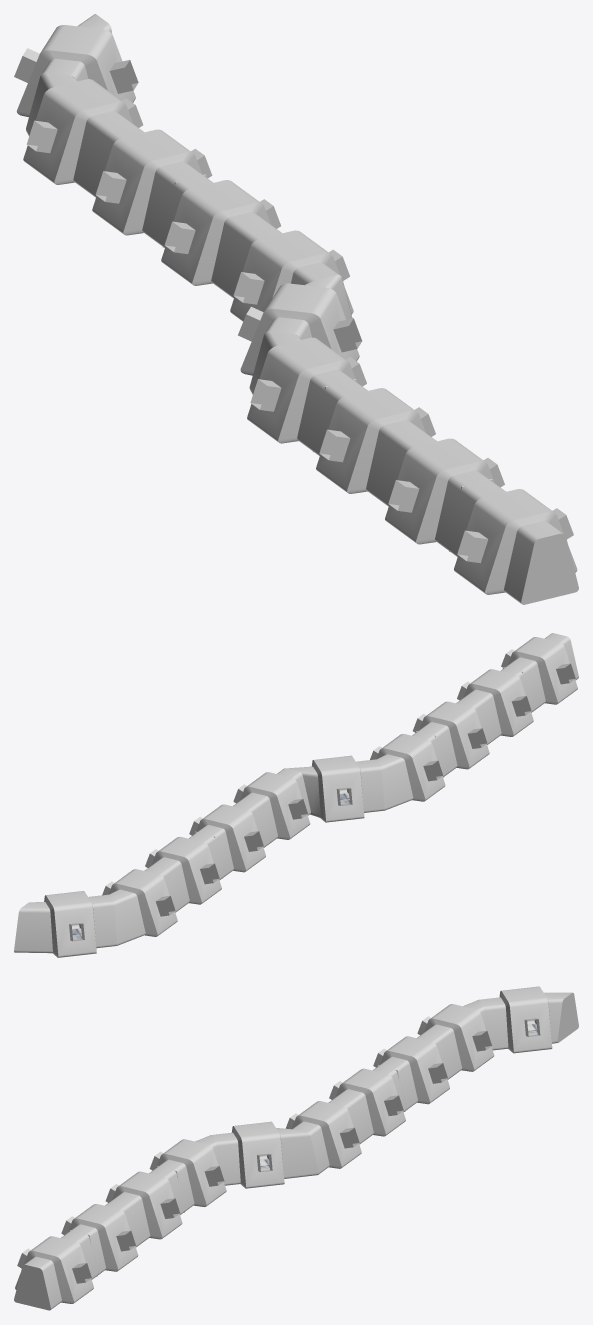
The model's file is scene_ship.glb.
3 renders of one model, top to bottom at view 1: azimuth 30°, elevation 25°; view 2: azimuth 150°, elevation 25°; view 3: azimuth 330°, elevation 25°, orthographic. The views are drawn at different scales.
Visible parts, largest first — view 1: corridor-open-1, corridor-open-1.003, corridor-open-1.004, corridor-vanila.004, corridor-open-3, corridor-open-2, corridor-vanila.4, corridor-open-1.005, corridor-vanila.5, corridor-vanila.003; view 2: corridor-vanila.003, corridor-vanila.5, corridor-vanila.004, corridor-vanila.4, corridor-open-1.003, corridor-open-1, corridor-open-1.004, corridor-open-1.005, corridor-open-3, corridor-open-2; view 3: corridor-vanila.5, corridor-vanila.003, corridor-open-1, corridor-open-1.005, corridor-open-3, corridor-open-1.004, corridor-open-1.003, corridor-open-2, corridor-vanila.004, corridor-vanila.4.
Boxes of the visible parts, box(x1,y1,x2,y2) form: corridor-open-1: box(452, 483, 578, 604); corridor-open-1.003: box(90, 123, 212, 244); corridor-open-1.004: box(159, 174, 280, 295); corridor-vanila.004: box(23, 72, 143, 194); corridor-open-3: box(316, 383, 435, 502); corridor-open-2: box(383, 432, 504, 551); corridor-vanila.4: box(247, 331, 366, 452); corridor-open-1.005: box(228, 224, 353, 321); corridor-vanila.5: box(238, 274, 362, 375); corridor-vanila.003: box(14, 14, 138, 117); corridor-vanila.003: box(14, 891, 116, 957); corridor-vanila.5: box(286, 755, 384, 822); corridor-vanila.004: box(102, 865, 178, 945); corridor-vanila.4: box(370, 730, 445, 810); corridor-open-1.003: box(145, 833, 222, 910); corridor-open-1: box(501, 633, 578, 709); corridor-open-1.004: box(189, 800, 266, 877); corridor-open-1.005: box(233, 768, 310, 845); corridor-open-3: box(413, 697, 490, 774); corridor-open-2: box(457, 665, 533, 742); corridor-vanila.5: box(212, 1121, 318, 1188); corridor-vanila.003: box(480, 986, 578, 1053); corridor-open-1: box(14, 1232, 94, 1310); corridor-open-1.005: box(285, 1097, 362, 1173); corridor-open-3: box(105, 1168, 183, 1244); corridor-open-1.004: box(329, 1065, 406, 1141); corridor-open-1.003: box(373, 1032, 451, 1108); corridor-open-2: box(61, 1200, 139, 1277); corridor-vanila.004: box(417, 999, 494, 1077); corridor-vanila.4: box(149, 1135, 226, 1212).
Size of the model in its own units: 16.9 by 4.42 by 76.43.
2 materials, 1 textured.
